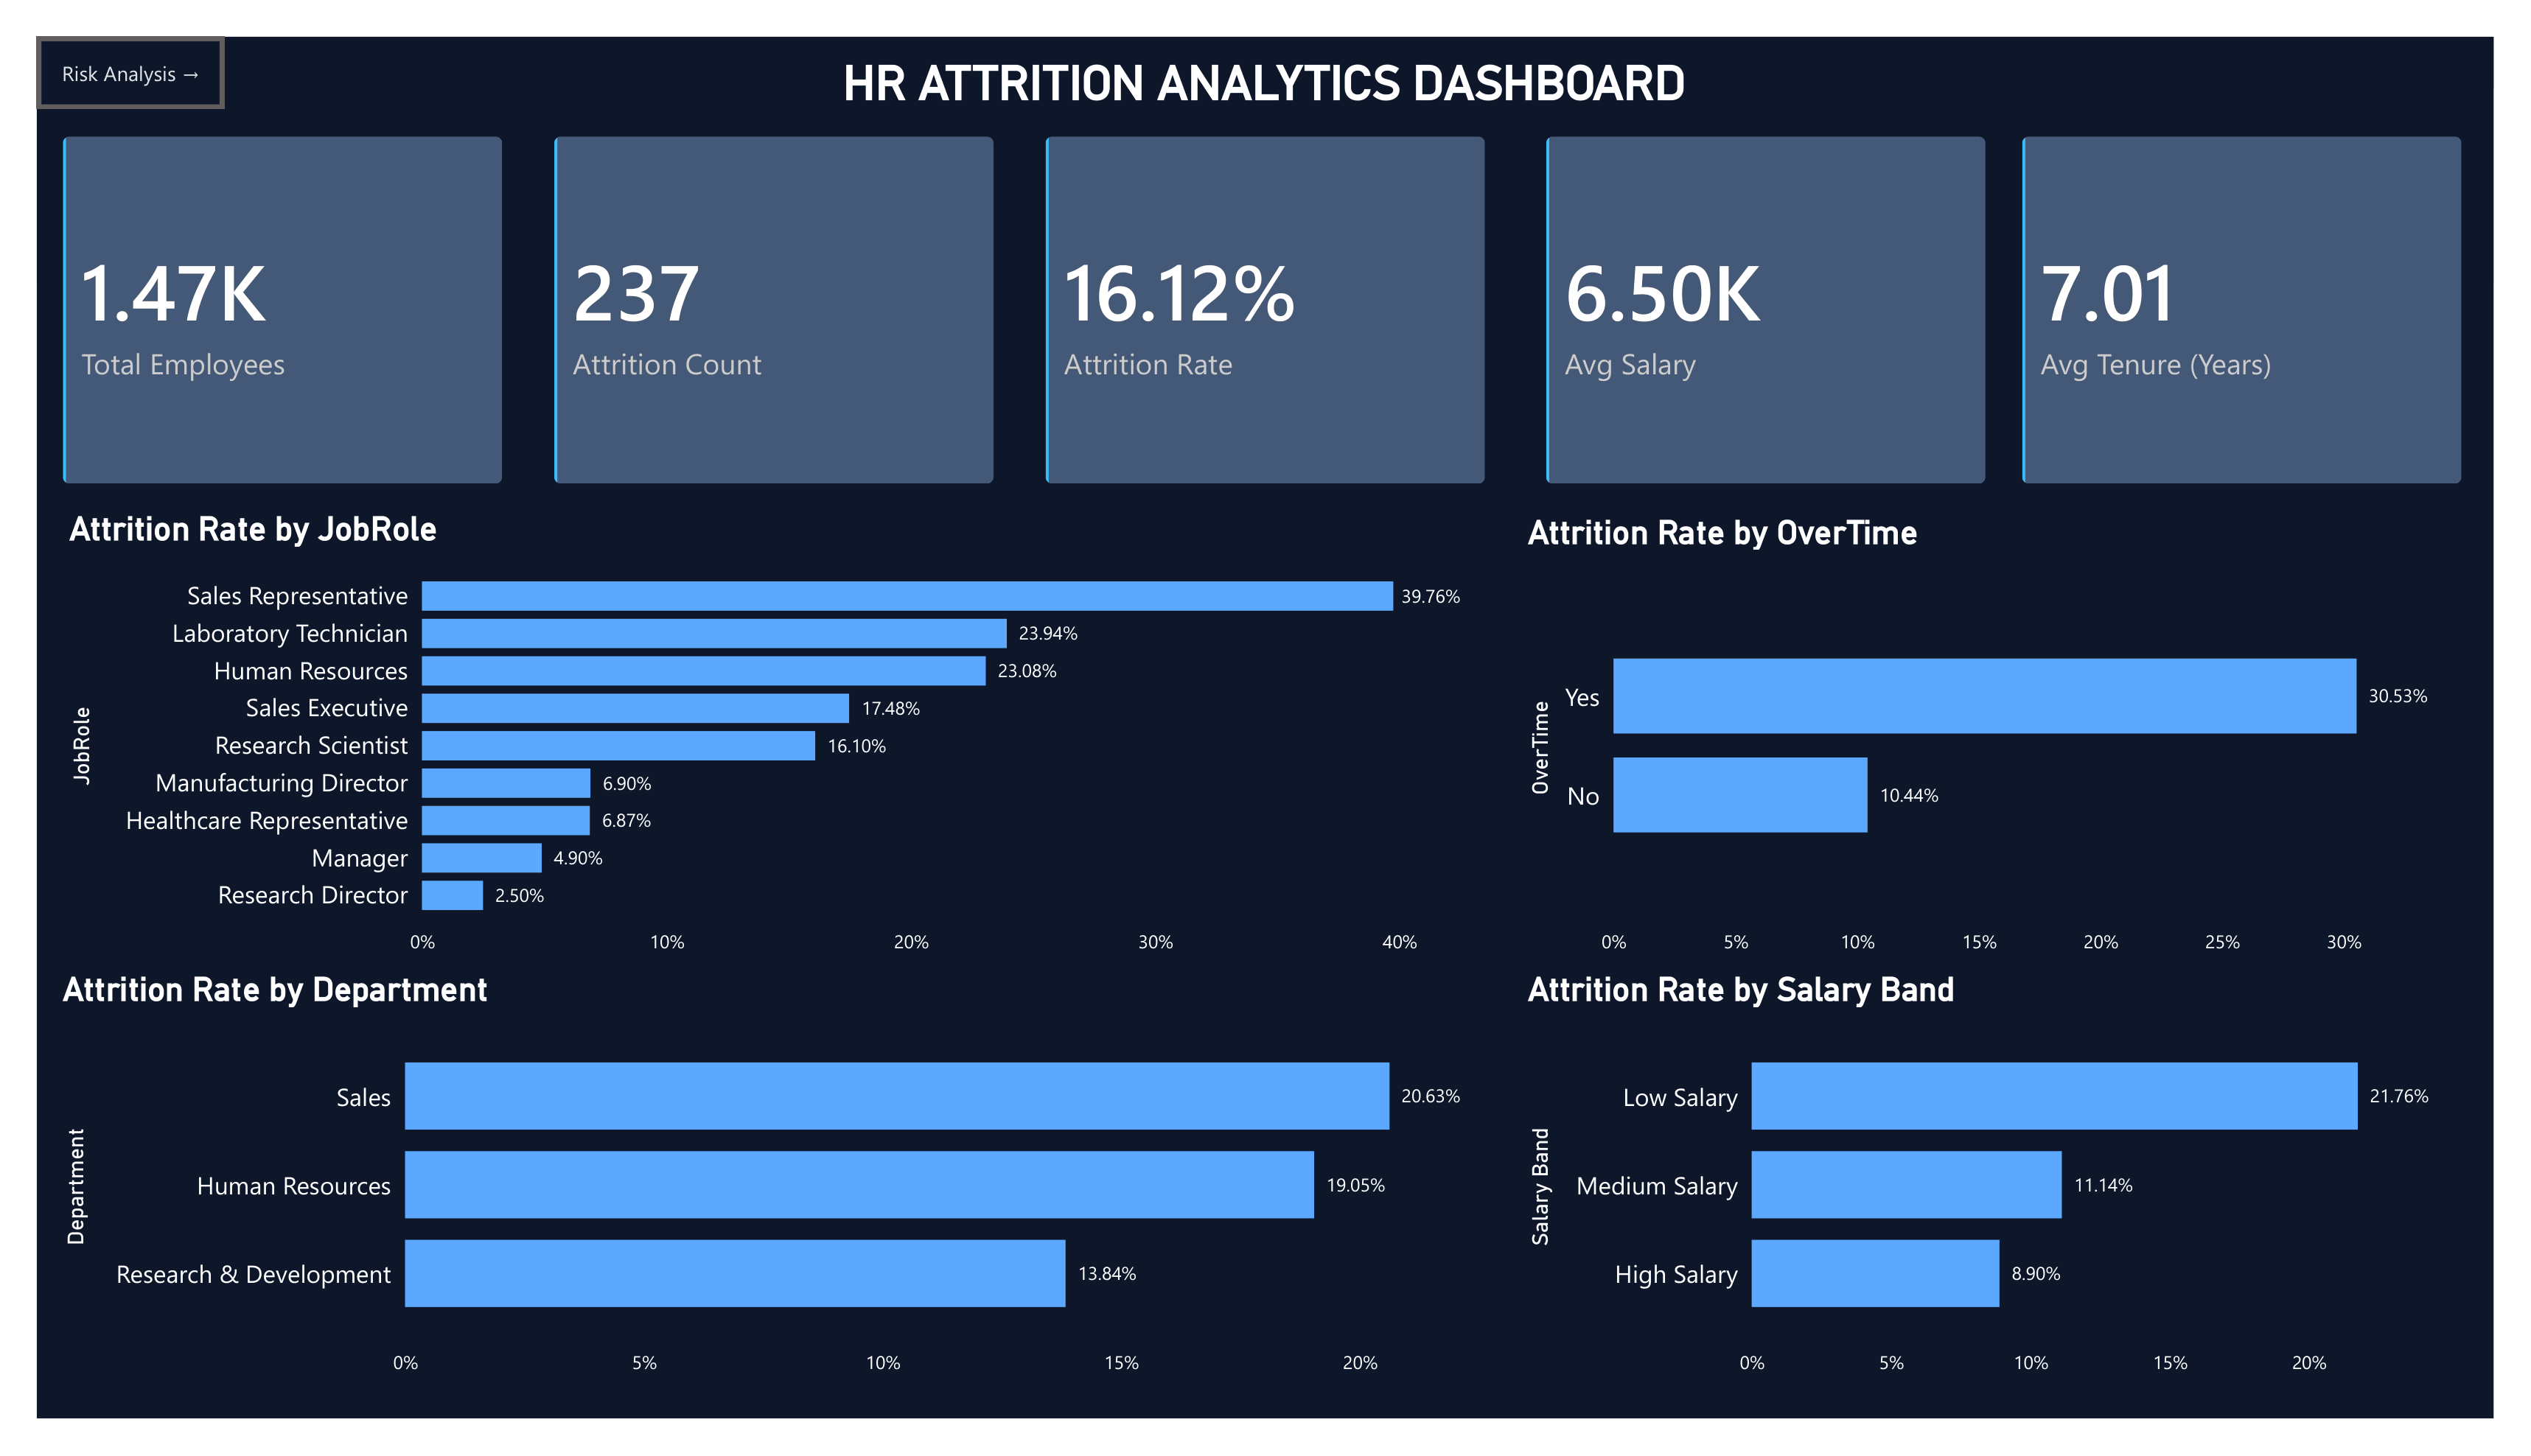

What the dashboard file says about the page in this screenshot:
{"tool":"powerbi","page":{"name":"Executive Overview","canvas":[1600,900],"ordinal":0},"visuals":[{"type":"cardVisual","fields":{"Data":["employees.Total Employees"]},"box":[0,47.6,320,260],"z":0},{"type":"cardVisual","fields":{"Data":["employees.Employees Left"]},"box":[320,47.6,320,260],"z":1000},{"type":"cardVisual","fields":{"Data":["employees.Attrition Rate"]},"box":[640,47.6,320,260],"z":2000},{"type":"cardVisual","fields":{"Data":["employees.Average Salary"]},"box":[966,48,320,260],"z":3000},{"type":"cardVisual","fields":{"Data":["employees.Average Tenure"]},"box":[1276,48,320,260],"z":4000},{"type":"textbox","box":[1.7,12.2,1595.1,36.5],"z":5000},{"type":"clusteredBarChart","fields":{"Category":["employees.JobRole"],"Y":["employees.Attrition Rate"]},"box":[16,308,928,300],"z":6000},{"type":"clusteredBarChart","fields":{"Y":["employees.Attrition Rate"],"Category":["employees.OverTime"]},"box":[966,310,610,298],"z":7000},{"type":"clusteredBarChart","fields":{"Y":["employees.Attrition Rate"],"Category":["employees.Department"]},"box":[12,608,932,274],"z":8000},{"type":"clusteredBarChart","fields":{"Y":["employees.Attrition Rate"],"Category":["employees.Salary Band"]},"box":[966,608,610,274],"z":9000},{"type":"actionButton","box":[0,0,121.5,46.9],"z":10000}]}

Visuals, with their boxes on the page's 1600x900 design canvas (x1, y1, x2, y2). These are canvas units, not pixel positions in the 2531x1456 screenshot, which may show the page scaled, cropped or inside an application window:
cardVisual - employees.Total Employees: l=0, t=48, r=320, b=308
cardVisual - employees.Employees Left: l=320, t=48, r=640, b=308
cardVisual - employees.Attrition Rate: l=640, t=48, r=960, b=308
cardVisual - employees.Average Salary: l=966, t=48, r=1286, b=308
cardVisual - employees.Average Tenure: l=1276, t=48, r=1596, b=308
textbox: l=2, t=12, r=1597, b=49
clusteredBarChart - employees.JobRole x employees.Attrition Rate: l=16, t=308, r=944, b=608
clusteredBarChart - employees.Attrition Rate x employees.OverTime: l=966, t=310, r=1576, b=608
clusteredBarChart - employees.Attrition Rate x employees.Department: l=12, t=608, r=944, b=882
clusteredBarChart - employees.Attrition Rate x employees.Salary Band: l=966, t=608, r=1576, b=882
actionButton: l=0, t=0, r=122, b=47
